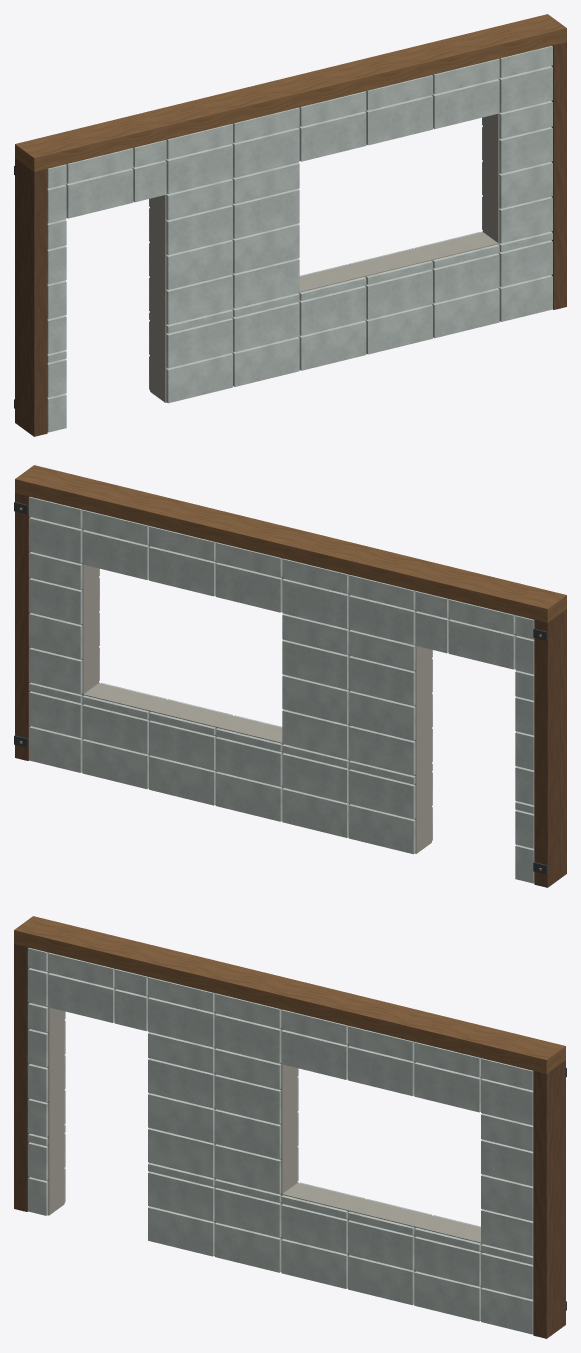
3 renders of one model, top to bottom at view 1: azimuth 30°, elevation 25°; view 2: azimuth 150°, elevation 25°; view 3: azimuth 330°, elevation 25°, orthographic.
Visible parts, largest first — view 1: 共享墙面用途 · clinic; view 2: 共享墙面用途 · clinic; view 3: 共享墙面用途 · clinic.
Boxes of the visible parts, x1,y1,x2,y2 form: 共享墙面用途 · clinic: [14, 14, 566, 436]; 共享墙面用途 · clinic: [14, 465, 566, 887]; 共享墙面用途 · clinic: [14, 916, 566, 1338].
Size of the model in its own units: 6.4 by 3.2 by 0.44.
6 materials, 6 textured.
